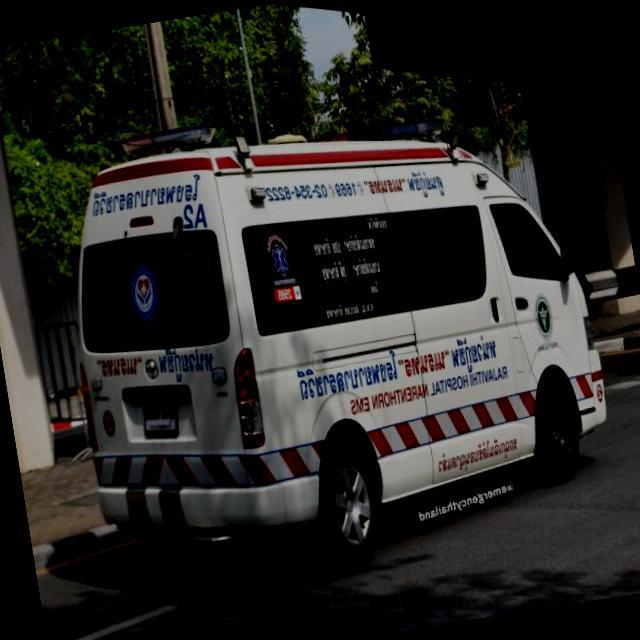emergency-vehicle: (36, 79, 638, 615)
